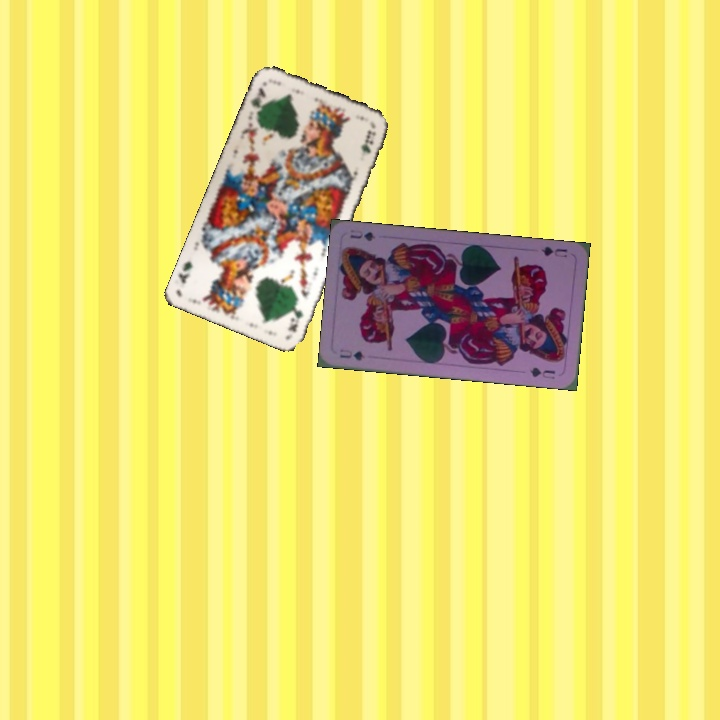GK: (247, 83, 268, 119), (284, 304, 306, 335)
GU: (537, 242, 570, 260), (336, 345, 367, 363)
